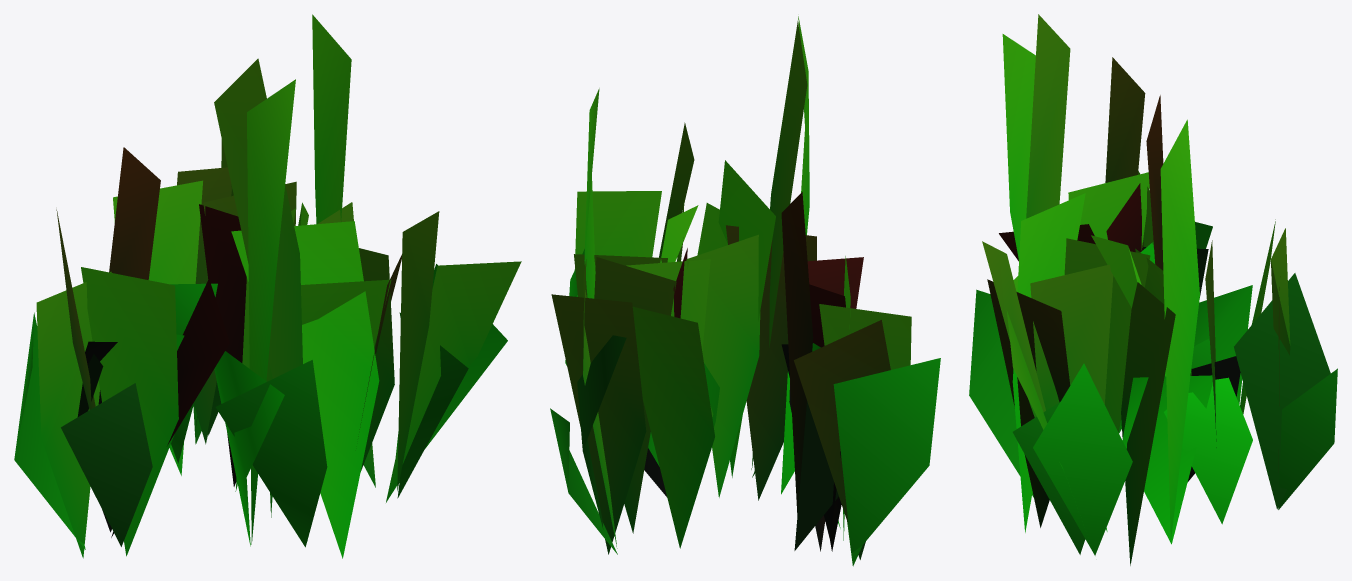
The model's file is Grass_3_Mesh.fbx.
3 renders of one model, left to right at view 1: azimuth 30°, elevation 25°; view 2: azimuth 150°, elevation 25°; view 3: azimuth 270°, elevation 25°, orthographic. The views are drawn at different scales.
Parts seen in each view (by area): view 1: Grass_3_LOD0; view 2: Grass_3_LOD0; view 3: Grass_3_LOD0.
Part boxes in pixels (bbox=[...]): Grass_3_LOD0: bbox=[14, 14, 521, 558]; Grass_3_LOD0: bbox=[550, 16, 940, 566]; Grass_3_LOD0: bbox=[969, 14, 1337, 565].
Size of the model in its own units: 157 by 175 by 121.
